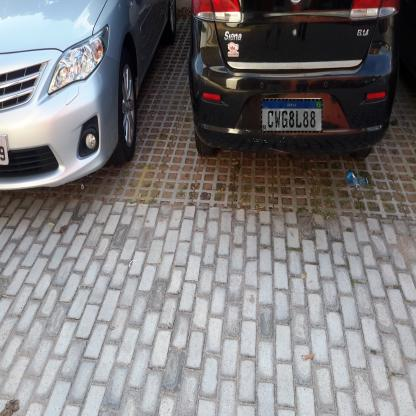PlacaM: (261, 99, 323, 133)
